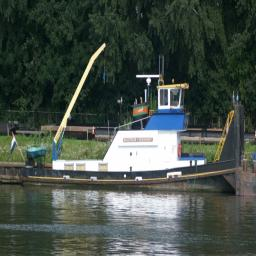tugboat: (25, 74, 247, 202)
